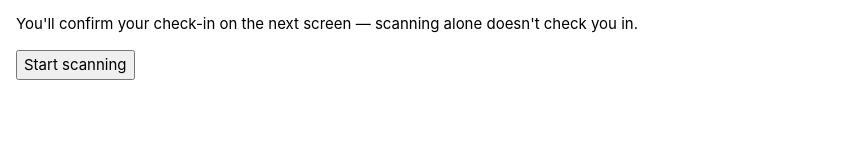
Scanner camera lifecycle › denied permission still lands on the denied state
The width and height of the screenshot is (845, 160).
Step 1. Click the button "Start scanning" → (75, 65), box [16,50,134,80]
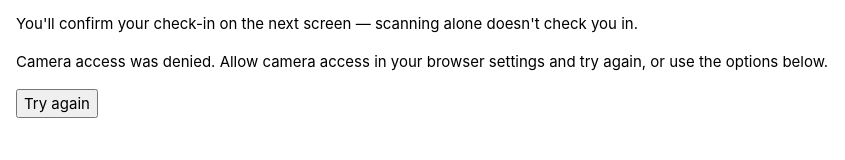
Result: the text "Camera access was denied" is shown at [16,52,828,71]
